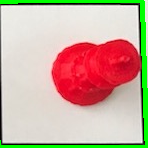Red King: (50, 38, 142, 108)
